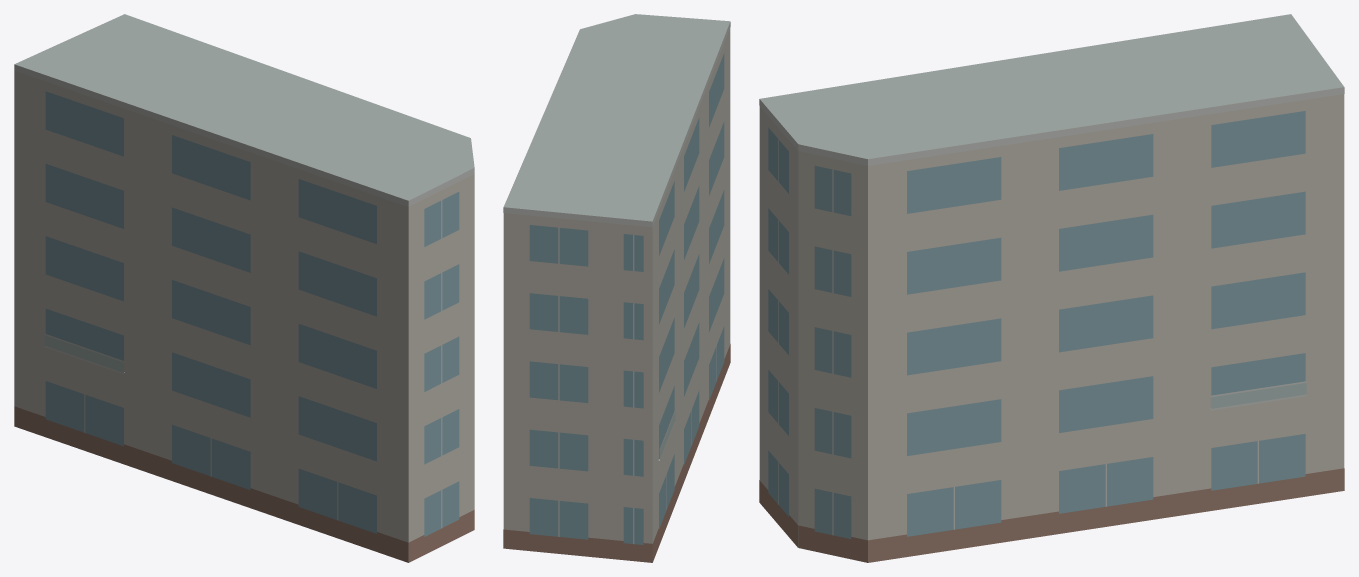
The model's file is survey-upis-32494868.glb.
3 renders of one model, left to right at view 1: azimuth 30°, elevation 25°; view 2: azimuth 150°, elevation 25°; view 3: azimuth 270°, elevation 25°, orthographic. The views are drawn at different scales.
Visible parts, largest first — view 1: survey-upis-32494868.tmp; view 2: survey-upis-32494868.tmp; view 3: survey-upis-32494868.tmp.
Part boxes in pixels (x1=…): survey-upis-32494868.tmp: x1=14, y1=14, x2=474, y2=562; survey-upis-32494868.tmp: x1=503, y1=14, x2=730, y2=562; survey-upis-32494868.tmp: x1=759, y1=14, x2=1344, y2=562.
Bounding box in the file's own units: 11.16 × 14.45 × 18.99.
